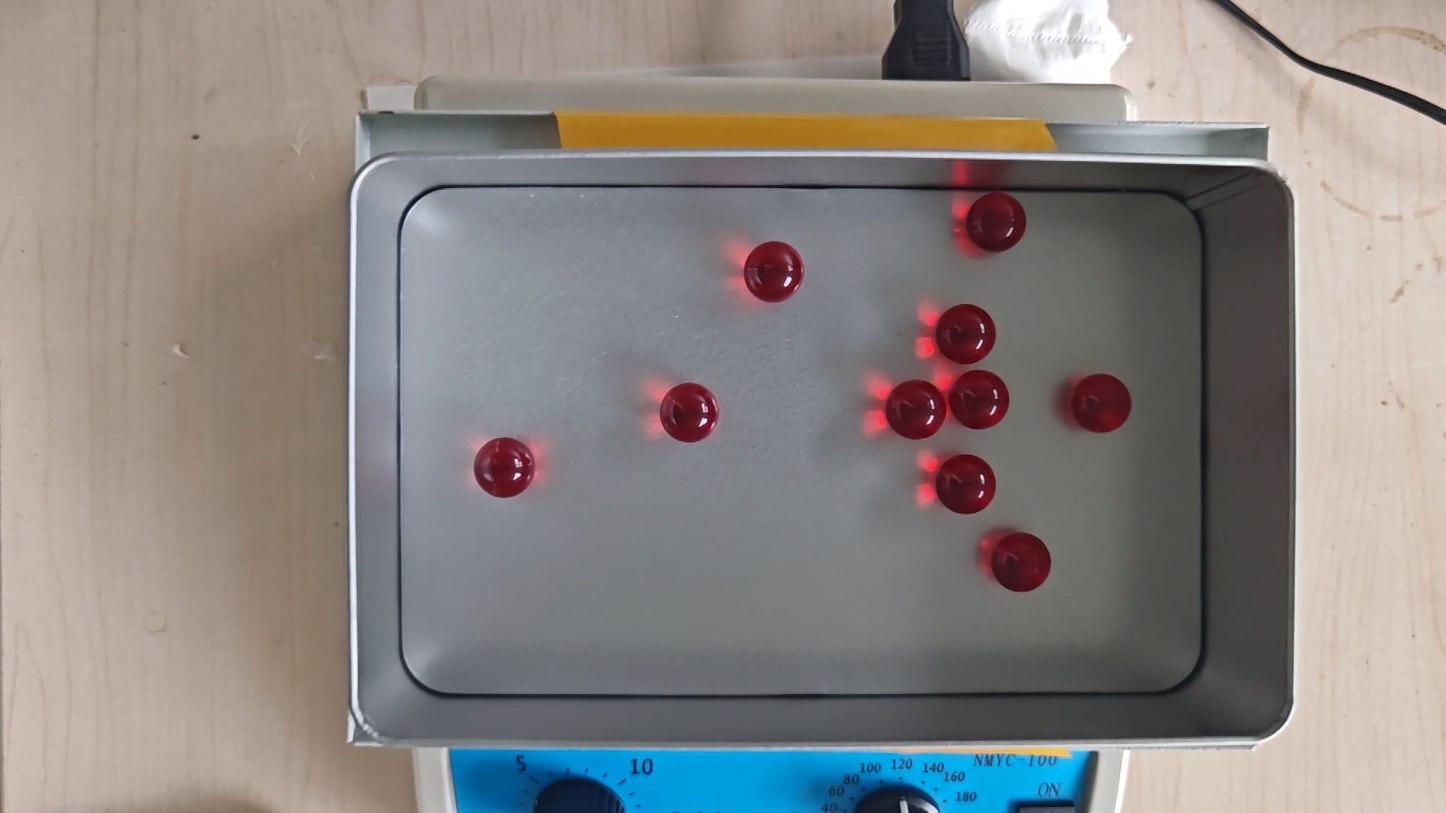ball: (474, 436, 535, 499), (744, 240, 804, 304), (935, 453, 996, 515), (886, 379, 947, 440), (1071, 373, 1132, 434), (992, 531, 1052, 593), (660, 381, 719, 444), (936, 303, 996, 364), (967, 192, 1026, 253), (950, 369, 1009, 430)
container: (398, 187, 1203, 696)
